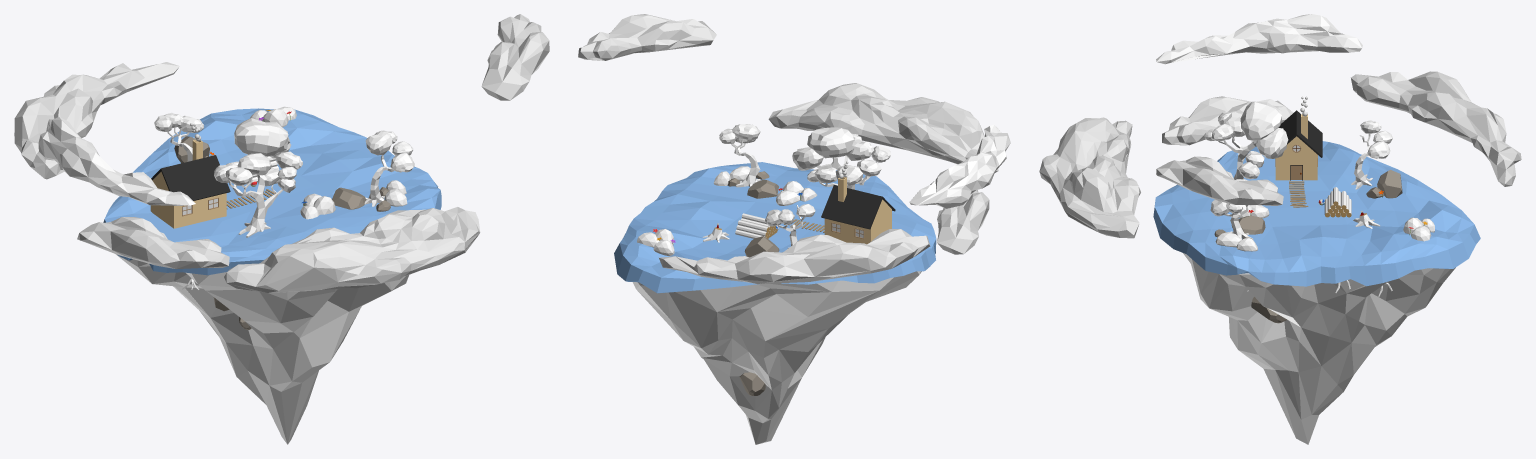
Rendered from Floating_Island_Scene1.fbx.
The picture shows the model from 3 angles, left to right: view 1: azimuth 30°, elevation 25°; view 2: azimuth 150°, elevation 25°; view 3: azimuth 270°, elevation 25°; orthographic projection. The views are drawn at different scales.
Visible parts, largest first — view 1: Floating_Island_Scene1; view 2: Floating_Island_Scene1; view 3: Floating_Island_Scene1.
Part boxes in pixels (x1=…): Floating_Island_Scene1: x1=14, y1=14, x2=549, y2=444; Floating_Island_Scene1: x1=578, y1=14, x2=1010, y2=444; Floating_Island_Scene1: x1=1039, y1=14, x2=1521, y2=444.
Bounding box in the file's own units: 14.5 × 14.64 × 11.88.
